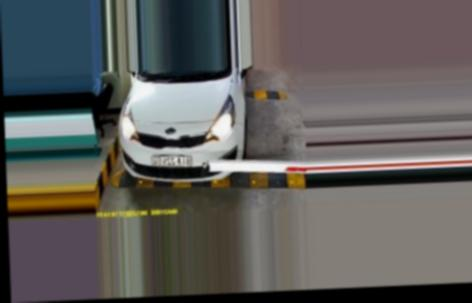License_Plate: (149, 153, 191, 169)
